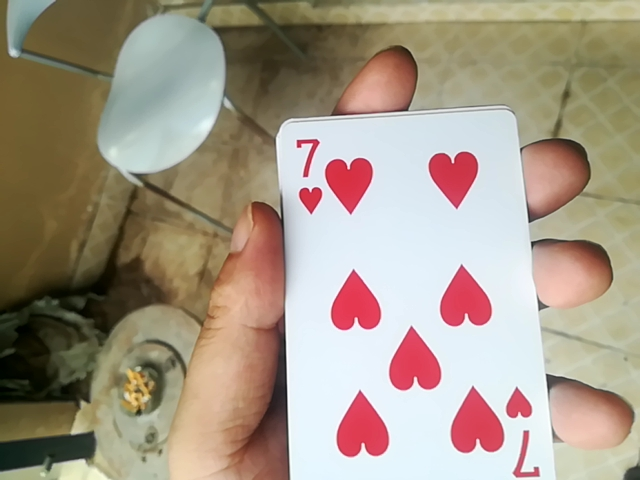hx 7: (278, 113, 553, 474)
